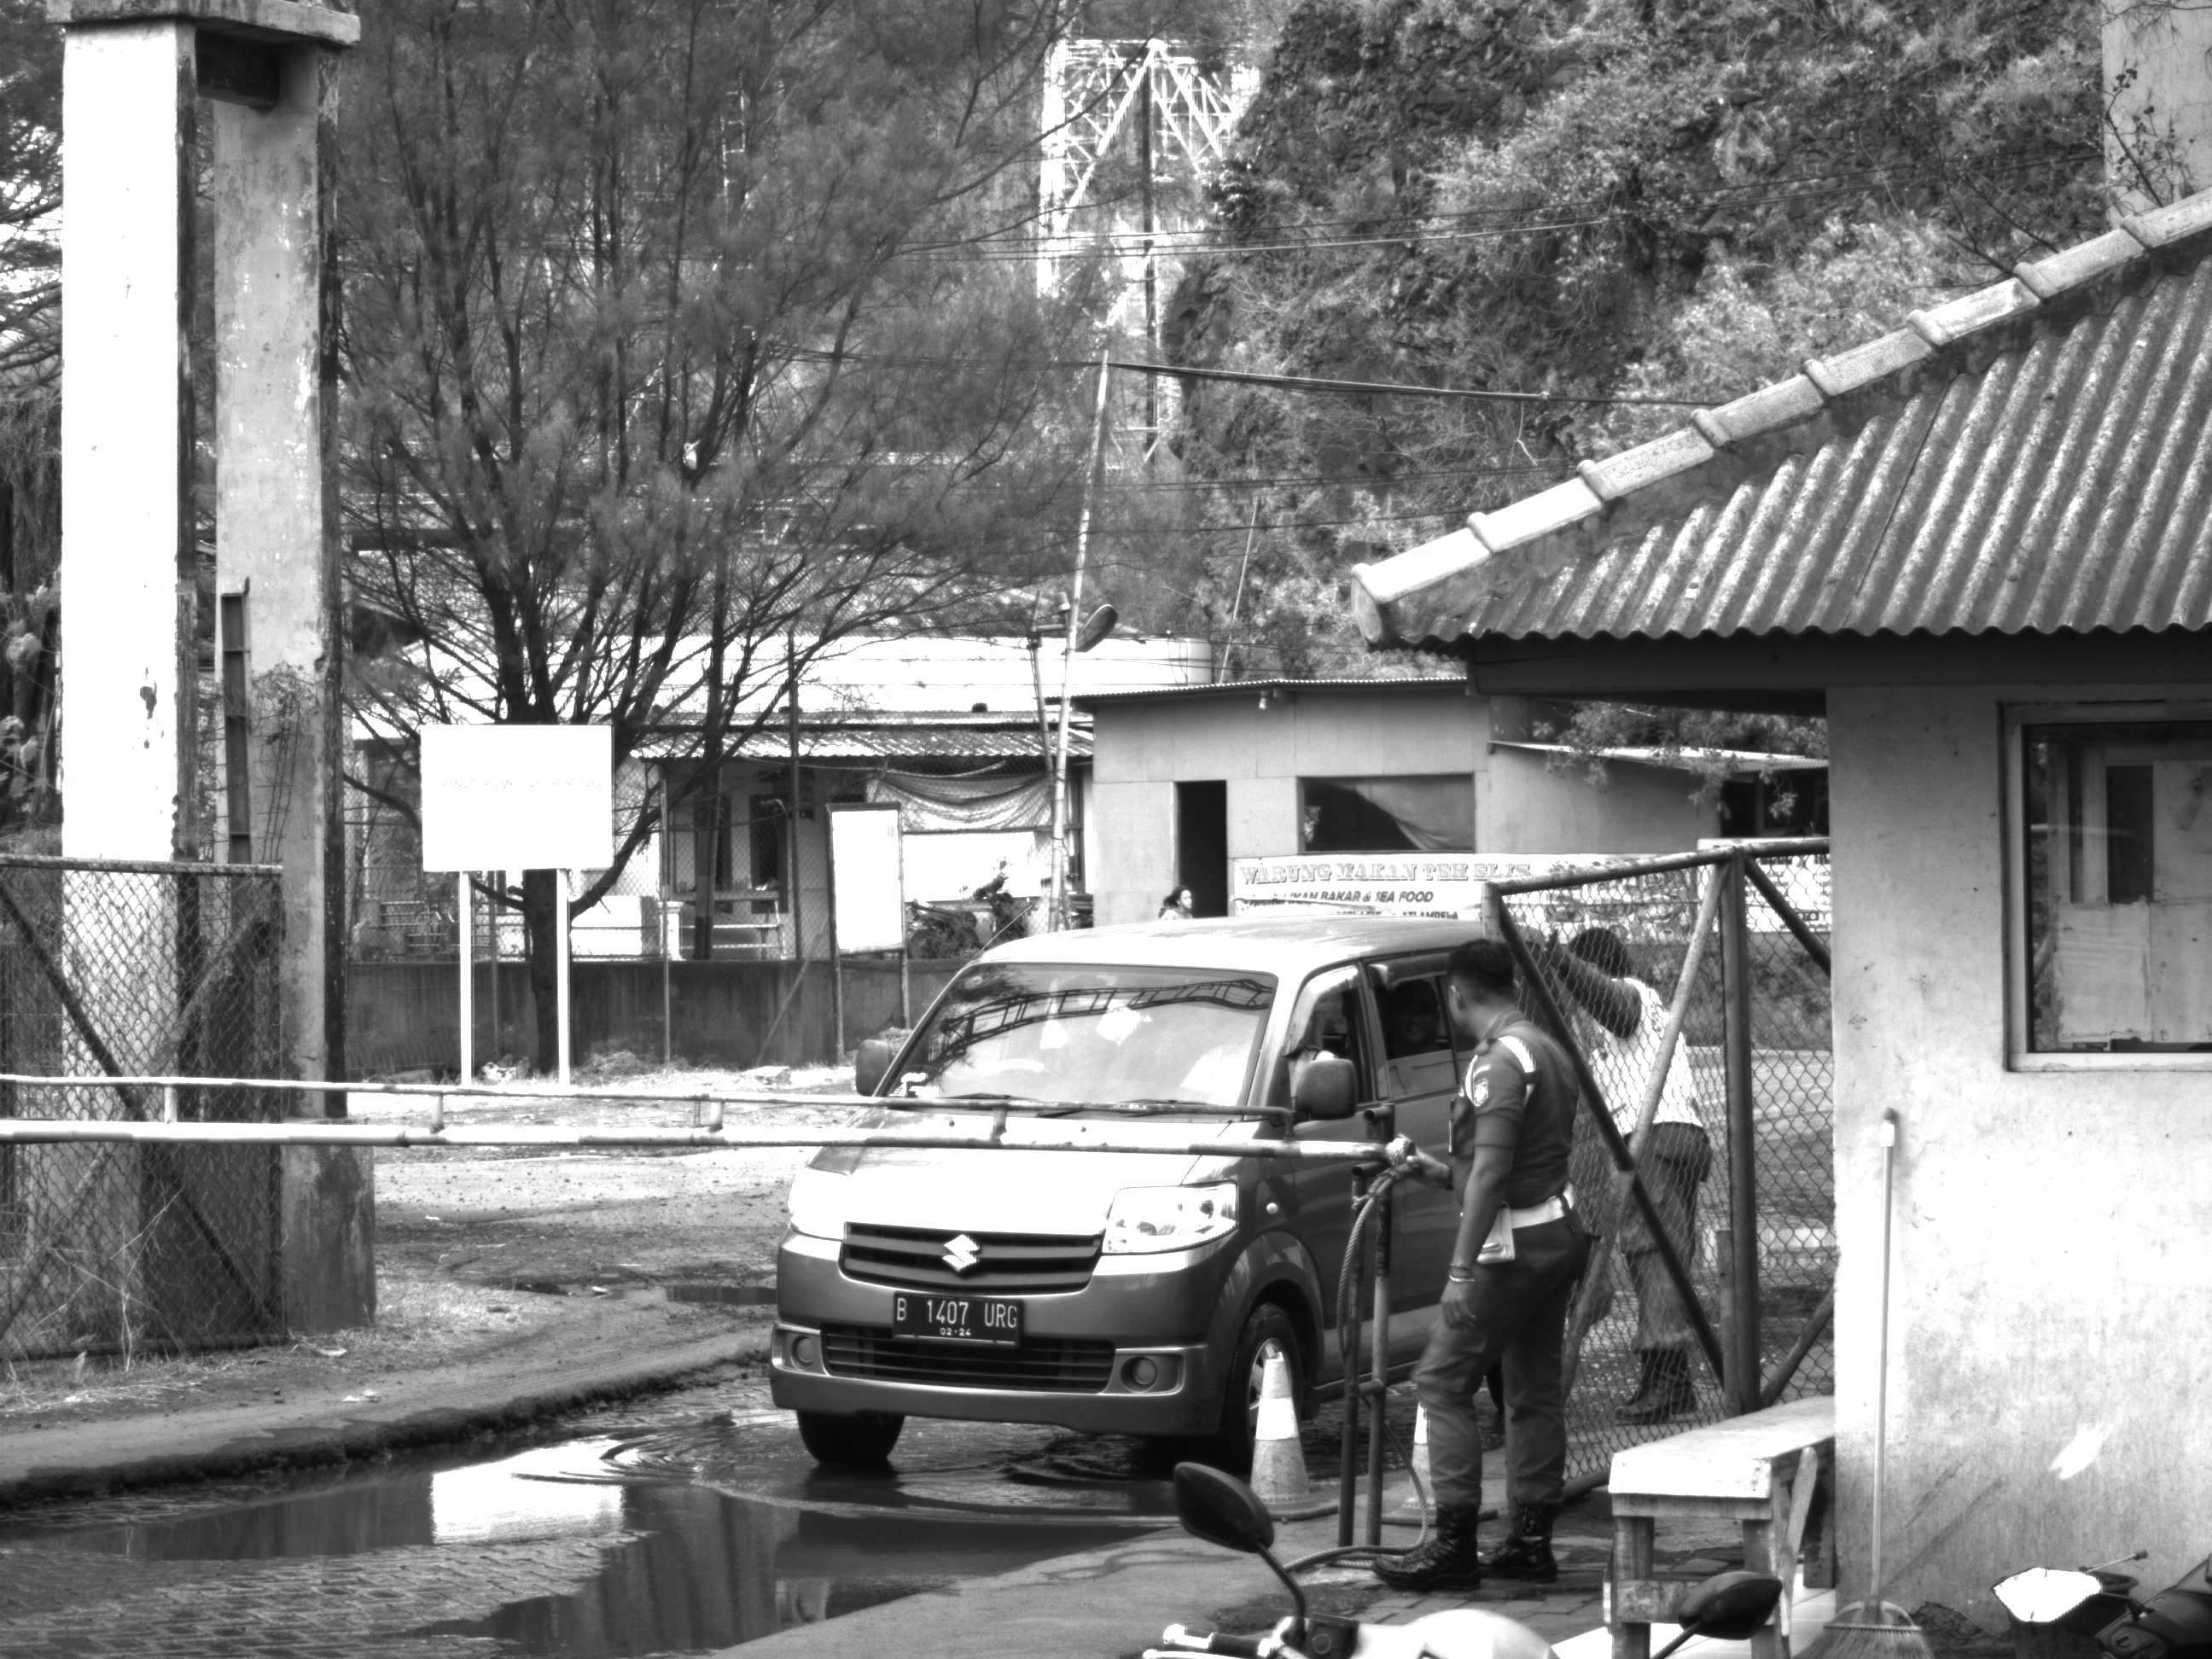day_small_front: (771, 911, 1359, 1477)
plate: (889, 1285, 1030, 1355)
